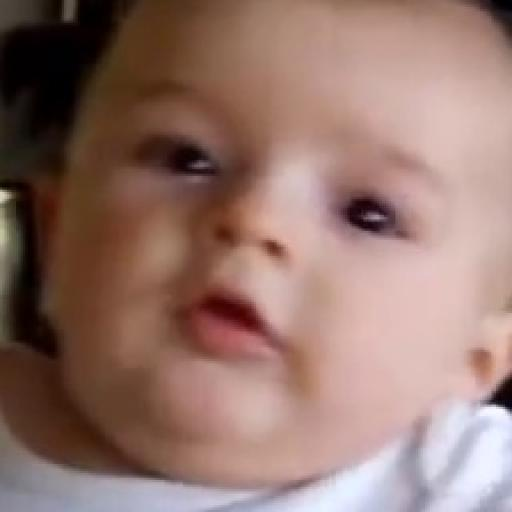Autism: (89, 0, 512, 457)
